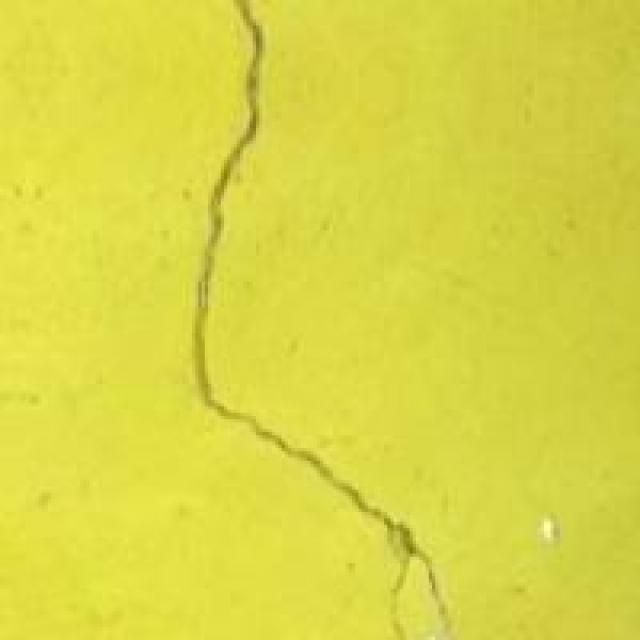crack: (134, 3, 442, 624)
